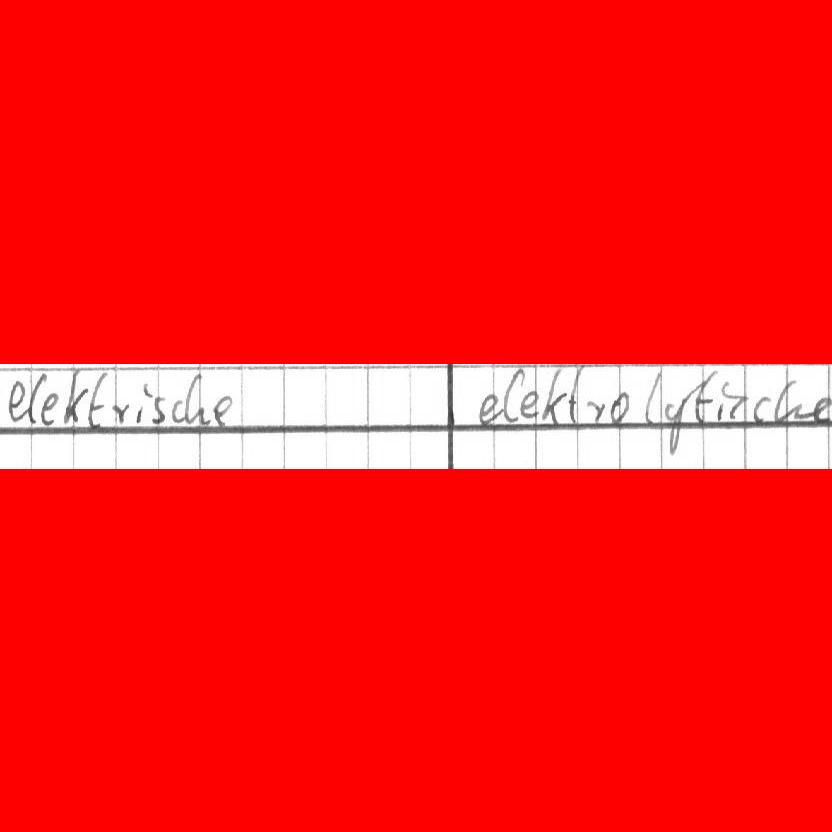Char: (660, 392, 688, 456), (539, 364, 567, 426), (185, 371, 212, 426), (62, 367, 88, 424), (772, 376, 803, 423), (692, 367, 717, 425), (501, 365, 524, 425), (85, 369, 107, 430), (720, 378, 748, 421), (641, 365, 661, 425), (565, 362, 583, 427), (475, 390, 504, 426), (29, 369, 46, 426), (6, 379, 28, 422), (605, 389, 629, 423), (134, 380, 152, 424), (211, 394, 234, 426), (40, 388, 60, 424), (518, 387, 541, 417), (751, 393, 770, 425), (811, 395, 832, 423), (586, 397, 607, 423), (110, 401, 131, 424), (150, 394, 165, 424), (171, 396, 184, 424), (711, 398, 724, 422)
